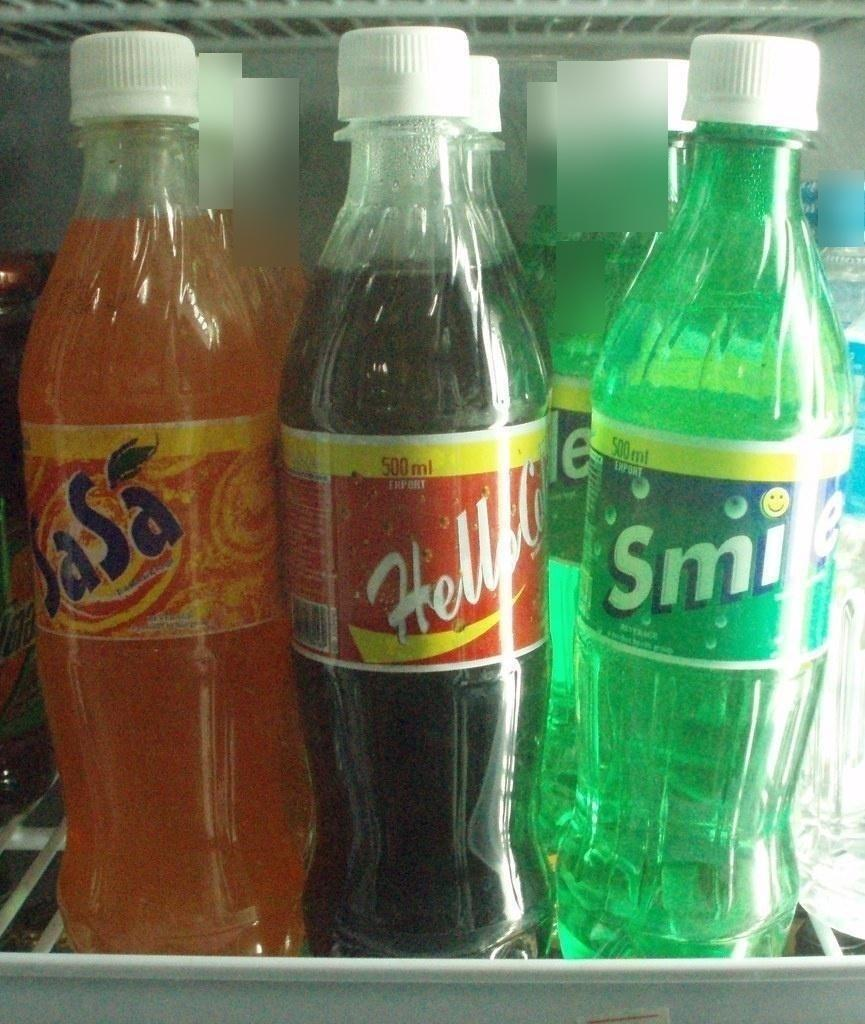bottle-plastic: (13, 25, 311, 956), (555, 32, 854, 956), (274, 22, 558, 957)
